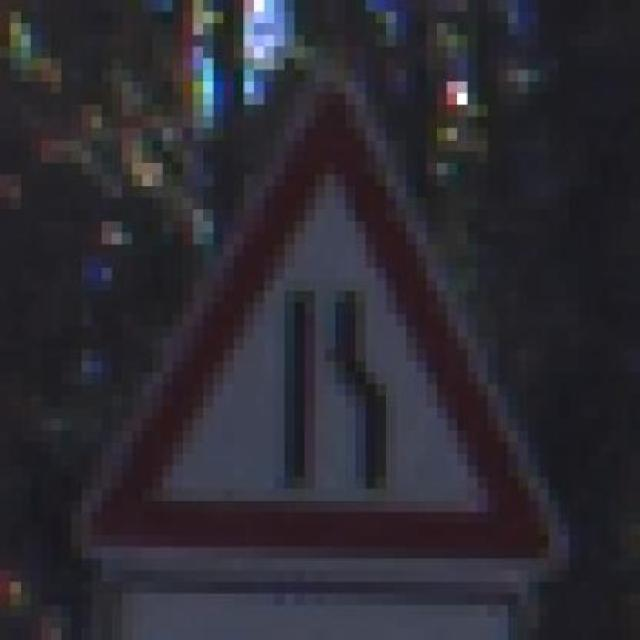-Road narrows on right: (41, 46, 579, 594)
